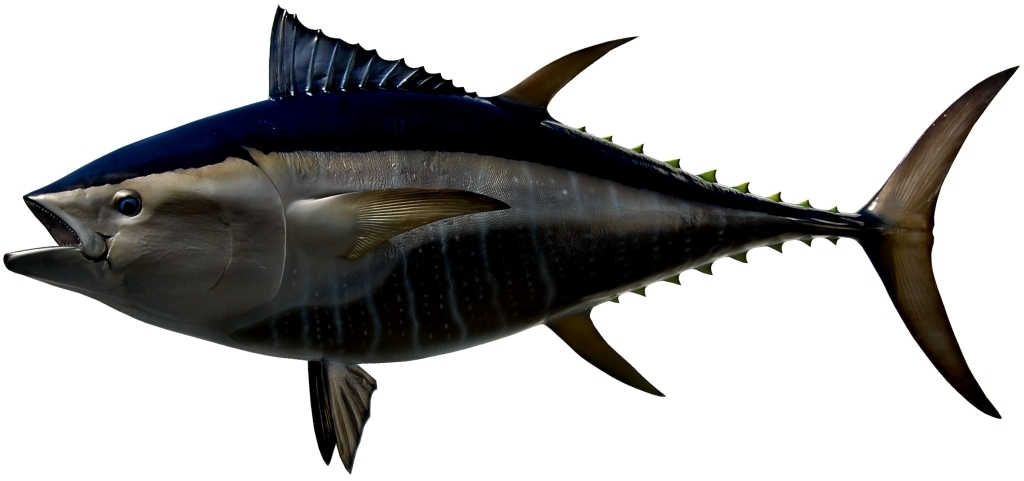Bluefina Tuna: (10, 28, 1012, 442)
